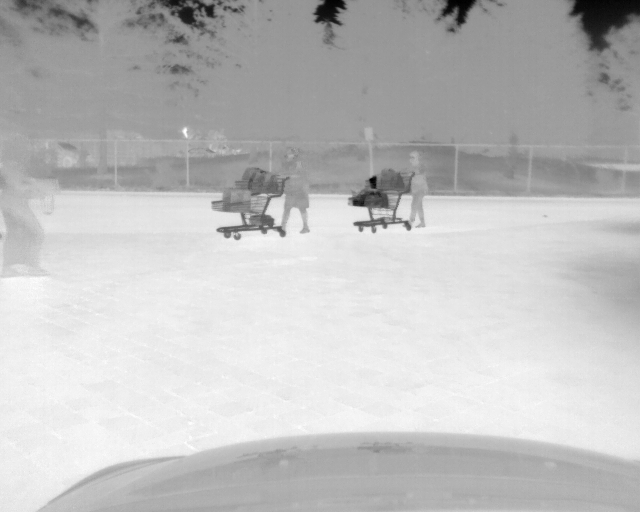people: (1, 141, 50, 283), (276, 144, 310, 234), (402, 149, 428, 229)
